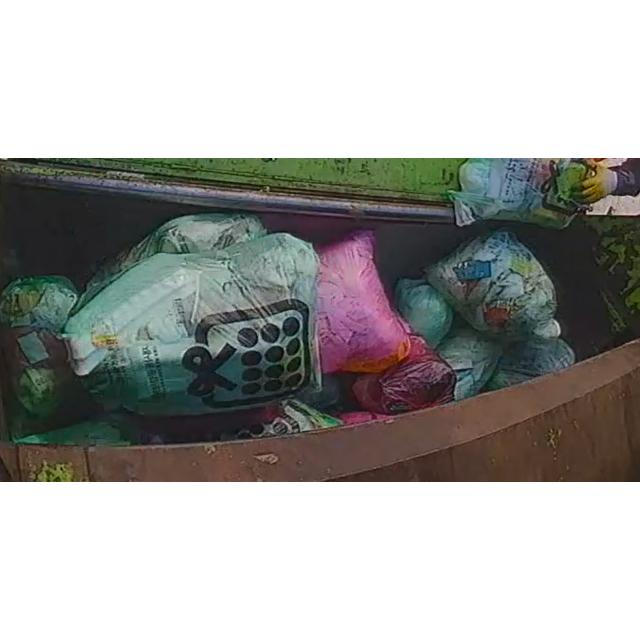general_trashbag: (318, 230, 411, 374), (352, 337, 456, 415)
other_trashbag: (62, 233, 321, 416), (71, 213, 266, 315), (426, 230, 560, 340), (0, 323, 96, 438), (446, 158, 592, 227), (438, 327, 502, 400), (485, 339, 575, 390), (0, 277, 78, 334), (395, 279, 452, 349)
